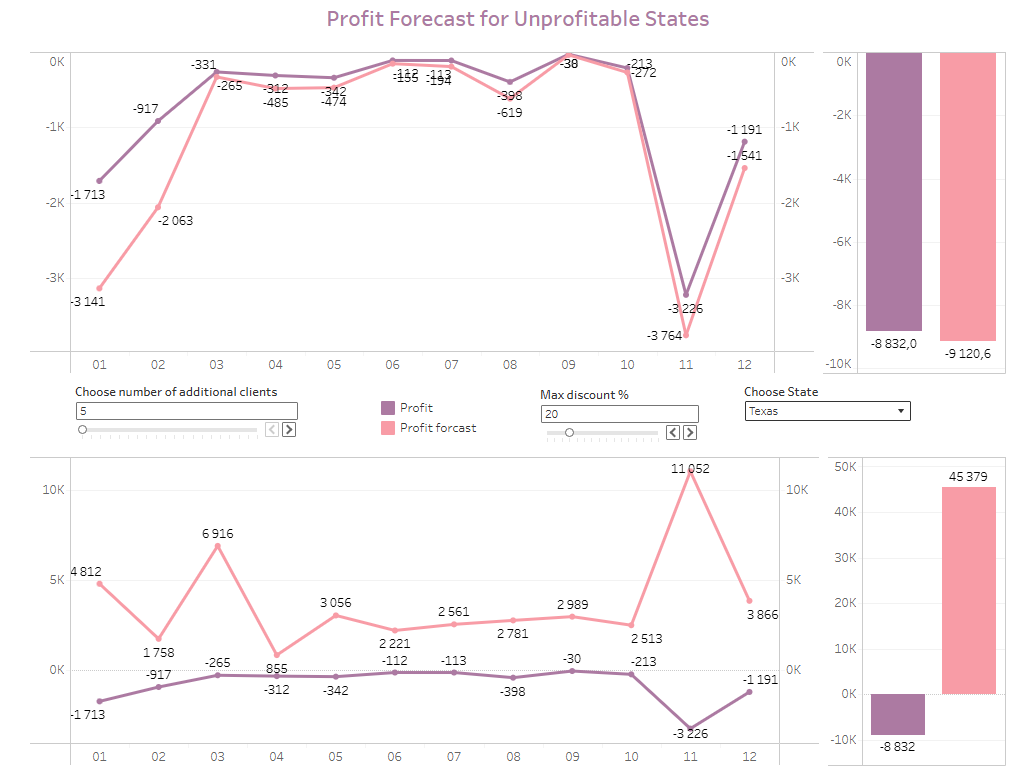

The dashboard page shown, as its layout file describes it:
{"tool":"tableau","page":{"name":"Unprof forecast Dashboard","canvas":[1000,800],"ordinal":5},"visuals":[{"type":"text","box":[8,8,984,62]},{"type":"worksheet","title":"Forcast clients unprof","mark":"Automatic","rows":["order_profits","Calculation_1055558130028579"],"cols":["order_date"],"box":[8,70,793,330]},{"type":"worksheet","title":"Forcast cl total unprof","mark":"Bar","cols":["order_date"],"box":[801,70,191,330]},{"type":"text","box":[8,400,984,75]},{"type":"parameter","param":"[Parameters].[Choose number of additional clients (copy)_1055558371676197]","box":[57,404,224,68]},{"type":"filter","title":"Max disc forcast unprof","param":"[federated.1rq3crg0brpm2t1e6yt8s01euf5b].[none:Calculation_1055558367690787:nk]","box":[726,404,168,62]},{"type":"parameter","param":"[Parameters].[Parameter 3]","box":[522,407,160,68]},{"type":"legend","title":"Forcast clients unprof","param":"[federated.1rq3crg0brpm2t1e6yt8s01euf5b].[:Measure Names]","box":[360,420,160,40]},{"type":"worksheet","title":"Max disc forcast unprof","mark":"Automatic","rows":["order_profits","Calculation_1055558143045670"],"cols":["order_date"],"box":[8,475,798,317]},{"type":"worksheet","title":"Total Max disc forcast Unprof","mark":"Bar","cols":["order_date"],"box":[806,475,186,317]}]}

Visuals, with their boxes on the page's 1000x800 design canvas (x1, y1, x2, y2). These are canvas units, not pixel positions in the 1031x783 screenshot, which may show the page scaled, cropped or inside an application window:
text: detection(8, 8, 992, 70)
"Forcast clients unprof" worksheet: detection(8, 70, 801, 400)
"Forcast cl total unprof" worksheet (Bar marks): detection(801, 70, 992, 400)
text: detection(8, 400, 992, 475)
parameter: detection(57, 404, 281, 472)
"Max disc forcast unprof" filter: detection(726, 404, 894, 466)
parameter: detection(522, 407, 682, 475)
"Forcast clients unprof" legend: detection(360, 420, 520, 460)
"Max disc forcast unprof" worksheet: detection(8, 475, 806, 792)
"Total Max disc forcast Unprof" worksheet (Bar marks): detection(806, 475, 992, 792)
